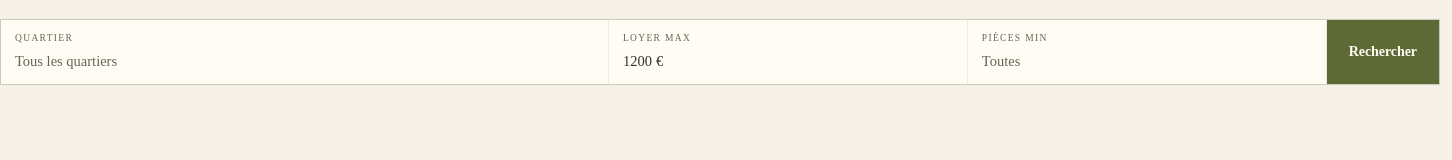
Test: HeroSearch › refuse un quartier inconnu en disant pourquoi
Type "Montmartre" into the field labelled "QUARTIER" at point(304, 62), box [15, 50, 594, 73]
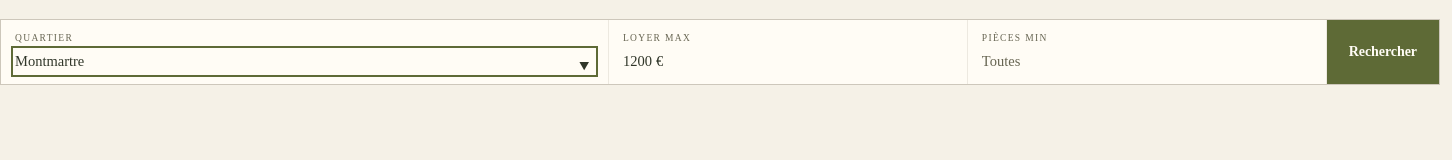
Click the button "Rechercher" at point(1383, 52), box [1327, 20, 1439, 84]
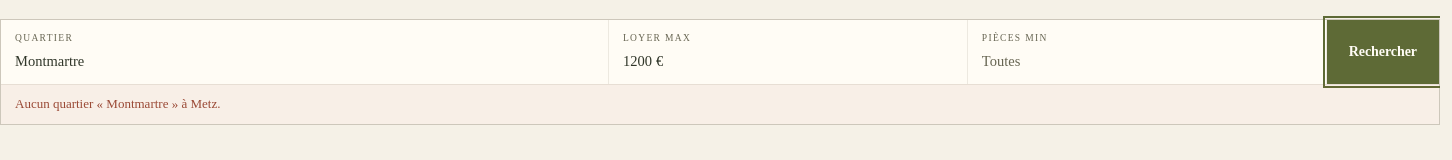
Result: the message shows "Montmartre" at [15, 96, 220, 111]
